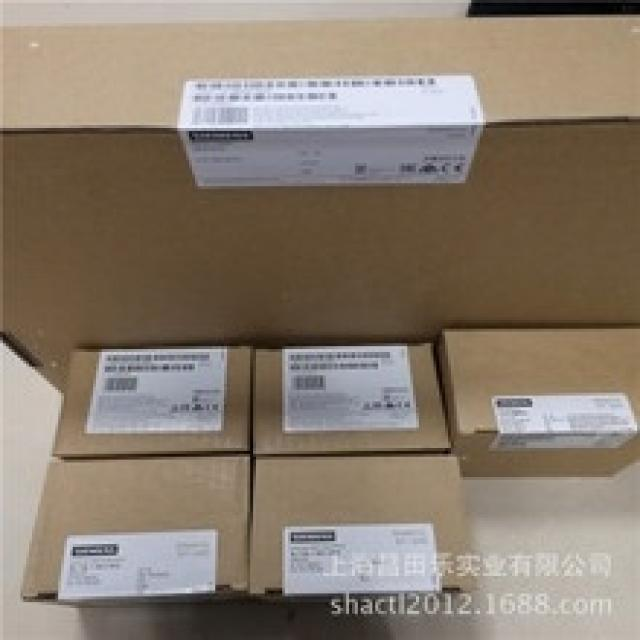box: (0, 15, 637, 395), (19, 457, 250, 607), (435, 326, 637, 479), (249, 454, 466, 596), (52, 347, 252, 460), (252, 344, 451, 455)
